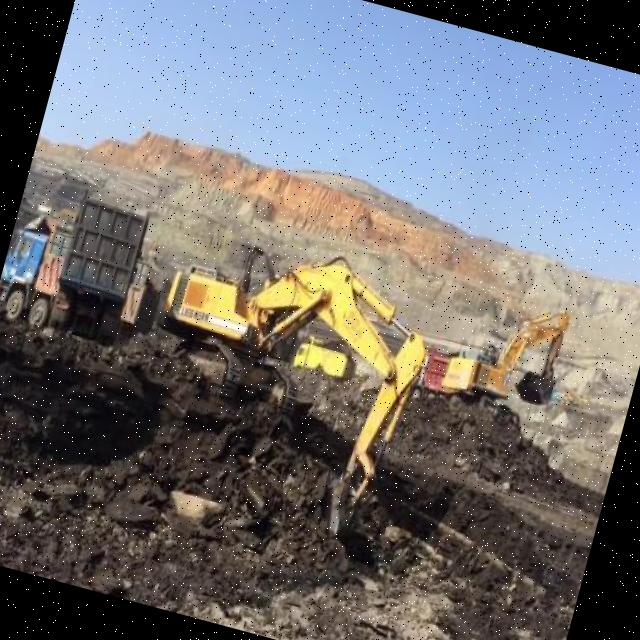Dump Truck: (45, 191, 149, 353), (0, 213, 68, 336), (294, 336, 352, 384)
Excavator: (113, 204, 441, 558), (432, 280, 580, 436)
